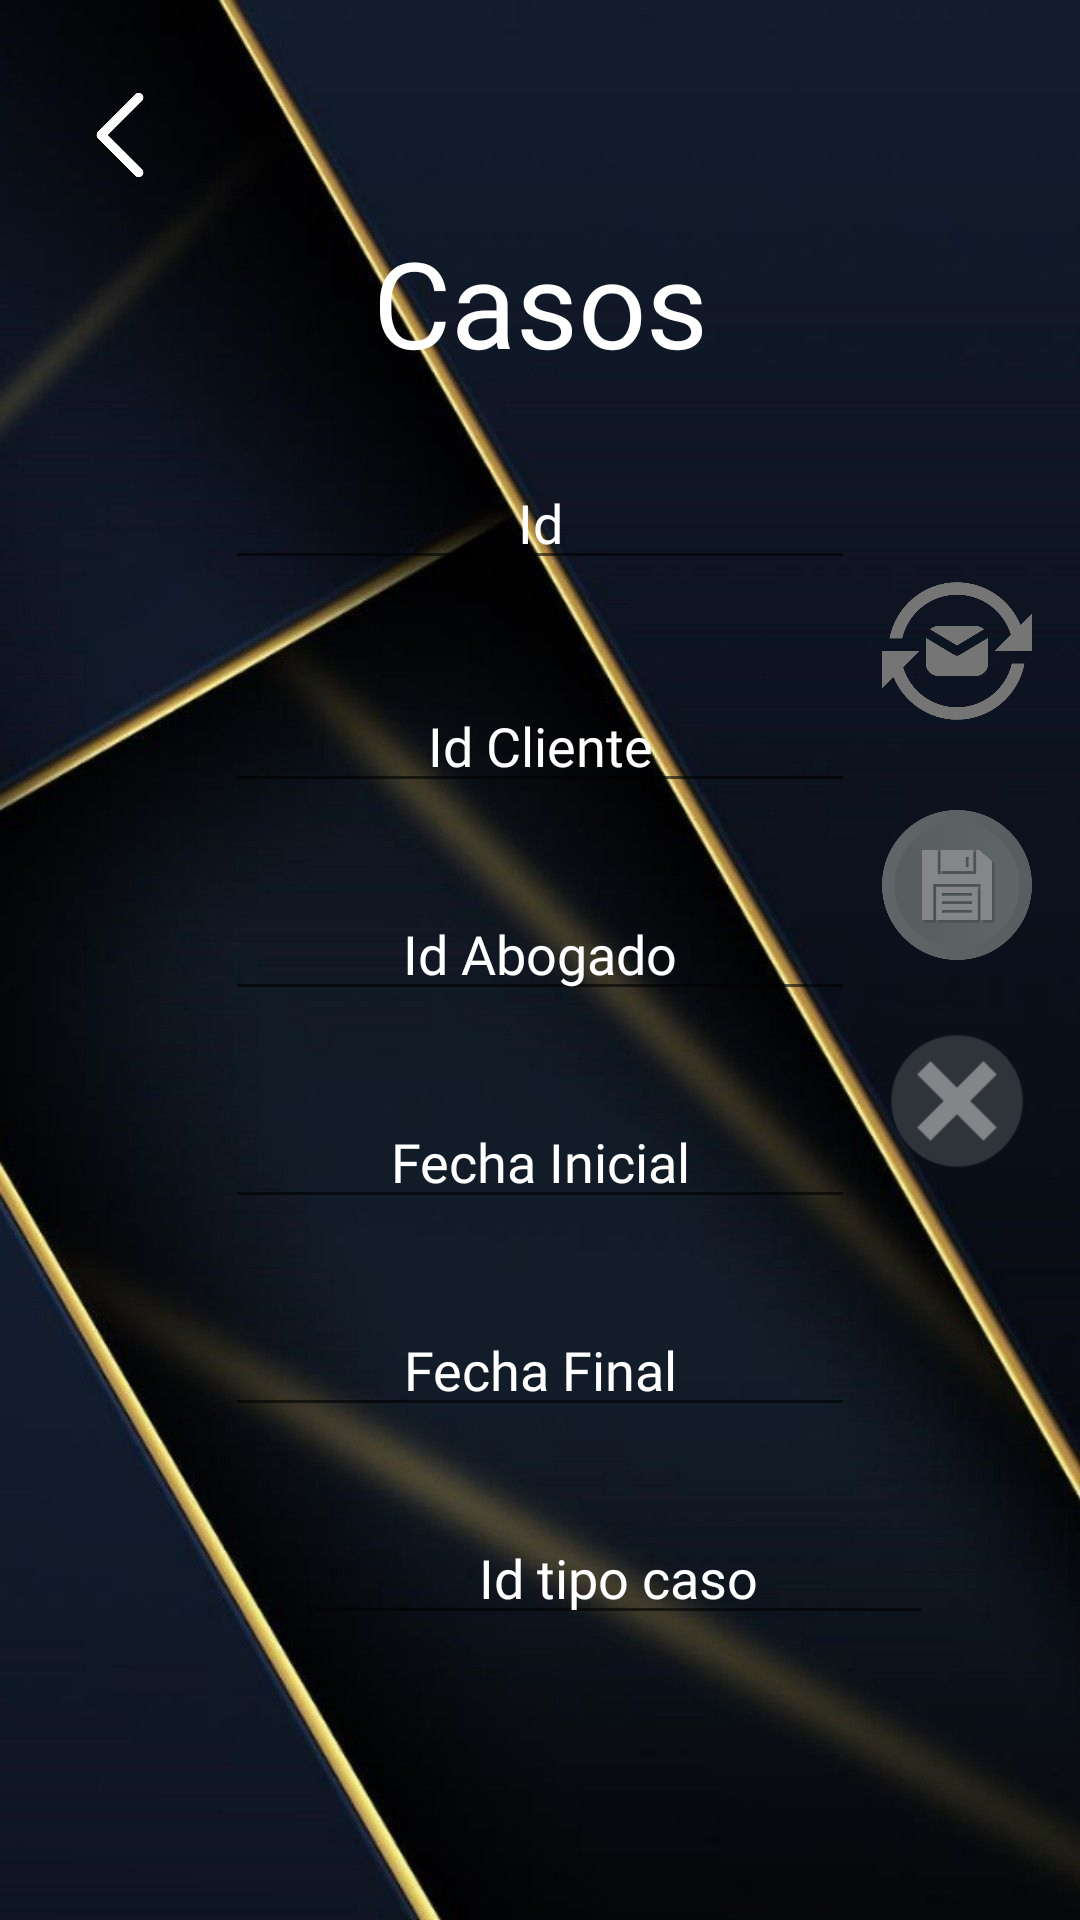

Screen size 1080 × 1920. Icon name, then its center in pixels as [x,y]:
actualizar: [957,651]
eliminar: [952,1105]
guardar: [957,885]
